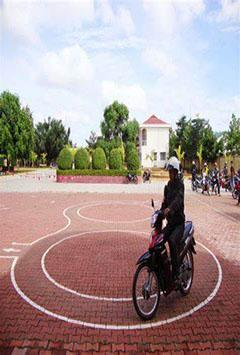motorcycle: (125, 186, 205, 328)
